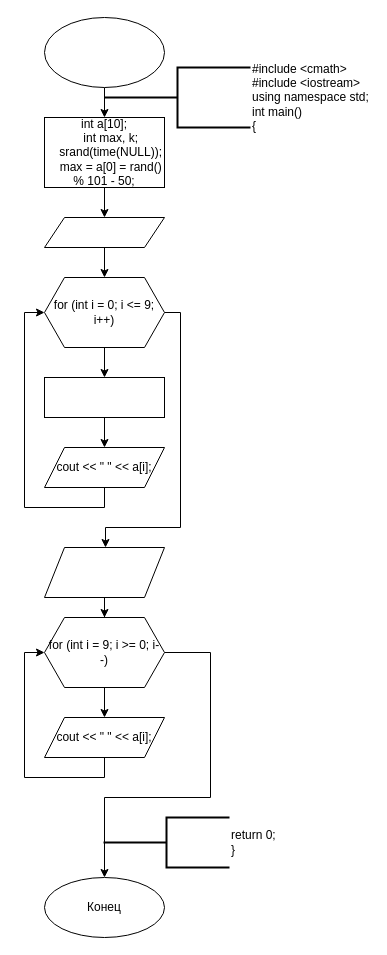
Image size: 387x955. Some labels were removed from this diagram. The centre of each missing label's shape, as x and y in pixels:
a[i] = rand() % 101 - 50;: (x=104, y=397)
cout << "Default sequence:";: (x=104, y=232)
cout << endl << "Reversed sequence:";: (x=104, y=572)
Запуск: (x=104, y=52)
